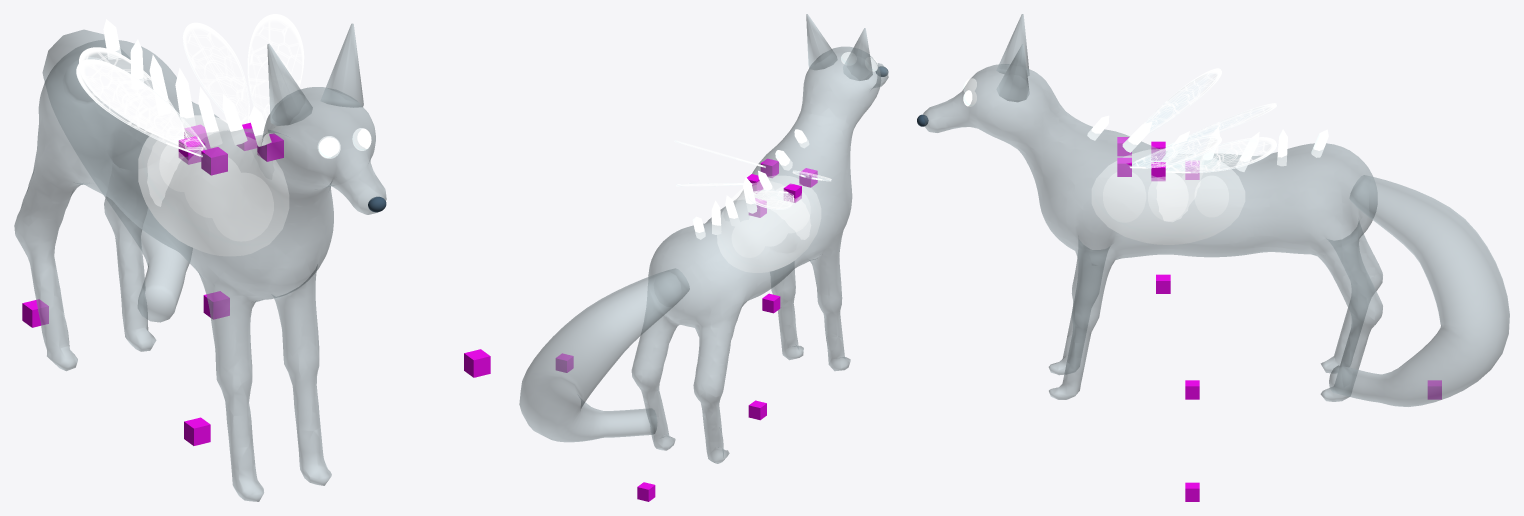
File: 04_volpe_ghiacciaio.glb
The picture shows the model from 3 angles, left to right: view 1: azimuth 30°, elevation 25°; view 2: azimuth 150°, elevation 25°; view 3: azimuth 270°, elevation 25°; orthographic projection. The views are drawn at different scales.
Visible parts, largest first — view 1: Volpe__Corpo_Ghiaccio, Volpe__Alone_Cuore, Volpe__Cuore_Luce, Volpe__Ali_Ghiacciate__Ala_L, Volpe__Punte_Ghiaccio, Volpe__Ali_Ghiacciate__Ala2_L, Volpe__Ali_Ghiacciate__Ala_R, Volpe__Ali_Ghiacciate__Ala2_R, Volpe__Occhi, Volpe__Radice, Volpe__AsseX, Volpe__AsseY (+3 smaller); view 2: Volpe__Corpo_Ghiaccio, Volpe__Alone_Cuore, Volpe__Cuore_Luce, Volpe__Punte_Ghiaccio, Volpe__Ali_Ghiacciate__Ala2_L; view 3: Volpe__Corpo_Ghiaccio, Volpe__Alone_Cuore, Volpe__Cuore_Luce, Volpe__Ali_Ghiacciate__Ala2_R, Volpe__Punte_Ghiaccio, Volpe__Ali_Ghiacciate__Ala_L, Volpe__Ali_Ghiacciate__Ala_R, Volpe__Ali_Ghiacciate__Ala2_L.
Boxes of the visible parts, x1,y1,x2,y2 form: Volpe__Corpo_Ghiaccio: [14, 23, 386, 501]; Volpe__Alone_Cuore: [138, 115, 288, 255]; Volpe__Cuore_Luce: [159, 137, 273, 241]; Volpe__Ali_Ghiacciate__Ala_L: [76, 59, 206, 156]; Volpe__Punte_Ghiaccio: [103, 19, 271, 146]; Volpe__Ali_Ghiacciate__Ala2_L: [79, 47, 186, 144]; Volpe__Ali_Ghiacciate__Ala_R: [247, 14, 304, 134]; Volpe__Ali_Ghiacciate__Ala2_R: [182, 22, 249, 124]; Volpe__Occhi: [317, 128, 371, 158]; Volpe__Radice: [184, 417, 210, 445]; Volpe__AsseX: [464, 349, 490, 377]; Volpe__AsseY: [22, 299, 48, 327]; Volpe__Corpo_Ghiaccio: [519, 14, 888, 463]; Volpe__Alone_Cuore: [717, 176, 820, 272]; Volpe__Cuore_Luce: [732, 186, 810, 257]; Volpe__Punte_Ghiaccio: [692, 129, 809, 239]; Volpe__Ali_Ghiacciate__Ala2_L: [748, 190, 793, 209]; Volpe__Corpo_Ghiaccio: [923, 14, 1509, 406]; Volpe__Alone_Cuore: [1092, 148, 1244, 244]; Volpe__Cuore_Luce: [1103, 172, 1228, 222]; Volpe__Ali_Ghiacciate__Ala2_R: [1165, 137, 1277, 173]; Volpe__Punte_Ghiaccio: [1087, 115, 1328, 171]; Volpe__Ali_Ghiacciate__Ala_L: [1143, 68, 1221, 133]; Volpe__Ali_Ghiacciate__Ala_R: [1129, 135, 1221, 168]; Volpe__Ali_Ghiacciate__Ala2_L: [1165, 103, 1277, 149].
Size of the model in its own units: 2.12 by 2.51 by 3.67.
8 materials, 1 textured.
